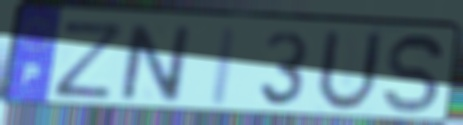3: (256, 30, 311, 108)
I: (205, 23, 242, 109)
N: (118, 21, 193, 105)
S: (381, 32, 447, 118)
U: (312, 26, 386, 116)
Z: (51, 18, 129, 102)
